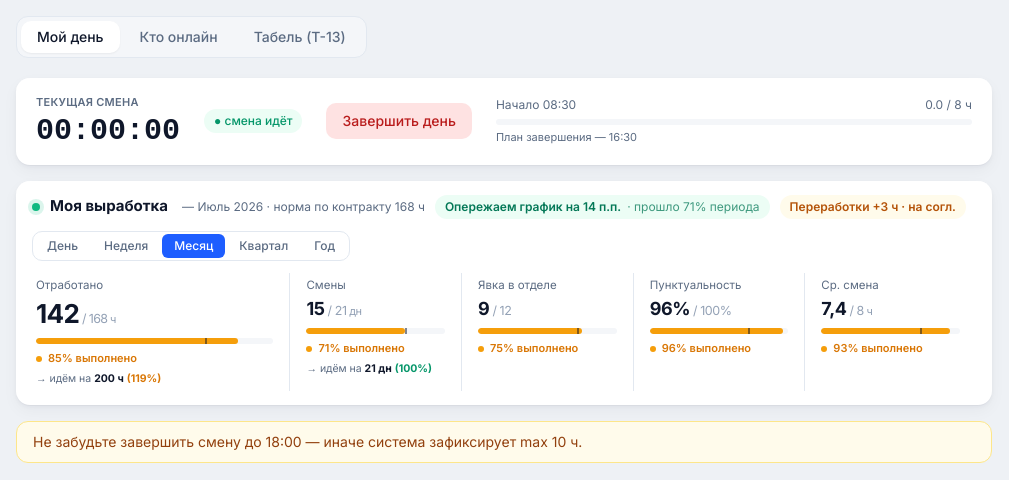
WorktimeView › скорборд переключает период — заголовок «Отработано» и план меняются
Check: the text "142" is shown, box left=36, top=298, right=79, bottom=329
Click the button "День".
click(63, 246)  # box left=35, top=234, right=90, bottom=258
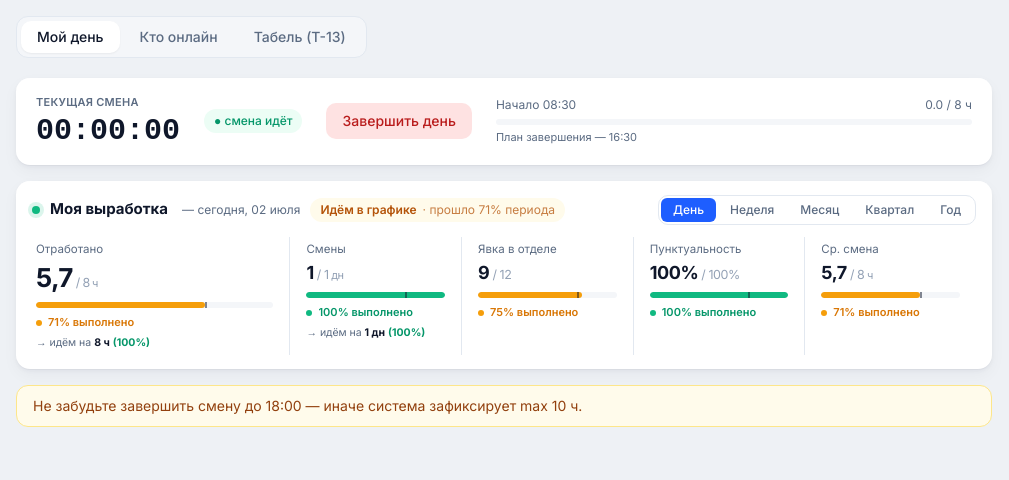
Check: the text "— сегодня, 02 июля" is shown, box left=182, top=202, right=300, bottom=218
Check: the text "142" is gone
